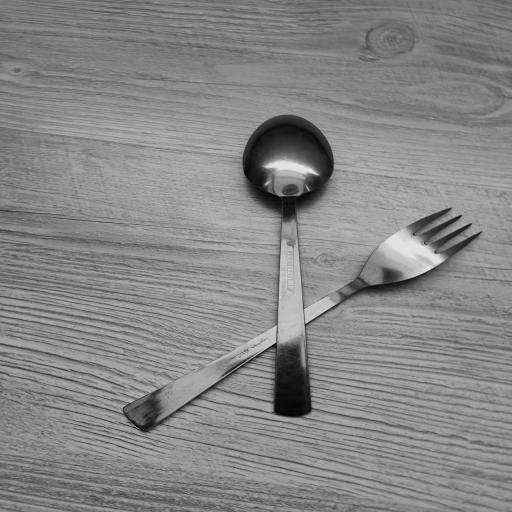fork: (119, 206, 478, 430)
spoon: (249, 114, 333, 417)
